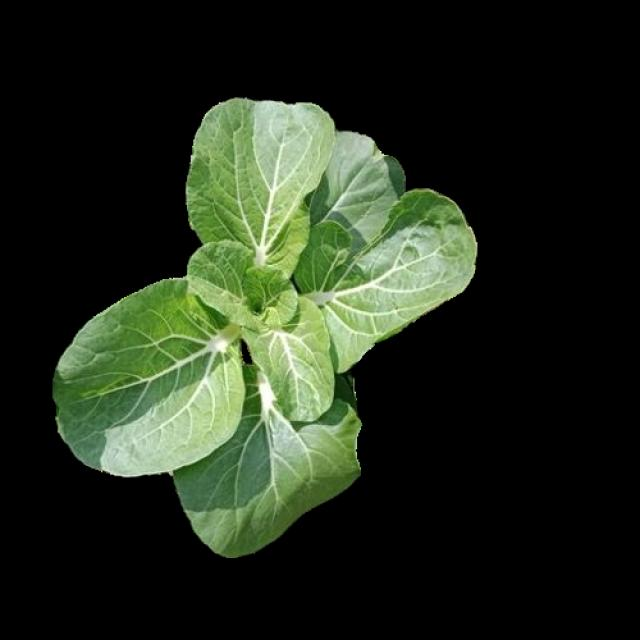mature: (56, 101, 472, 561)
unhealthy: (296, 191, 471, 375)
